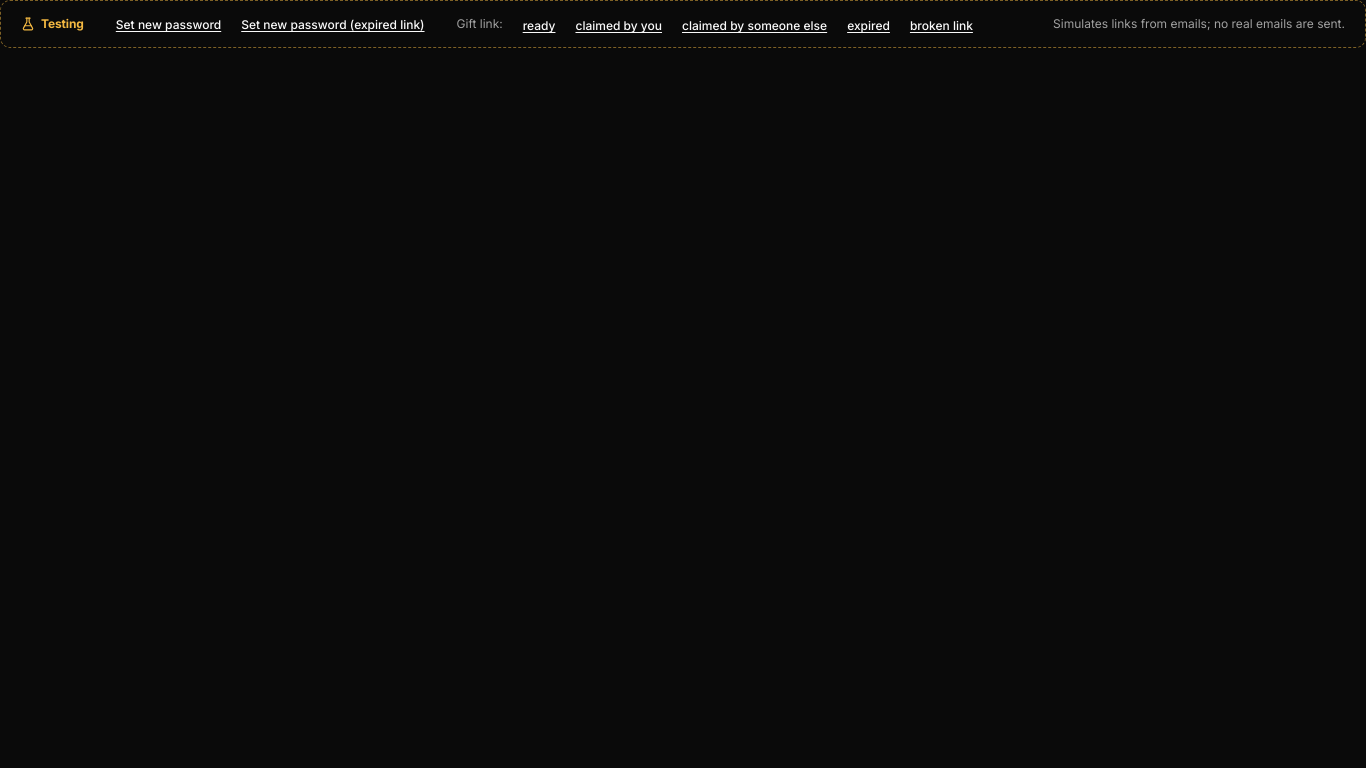
Scenario: password reset in the auth modal › focus returns to the footer link when the modal closes
Click the button "Set new password". click: click(168, 25)
box: [108,13,229,37]
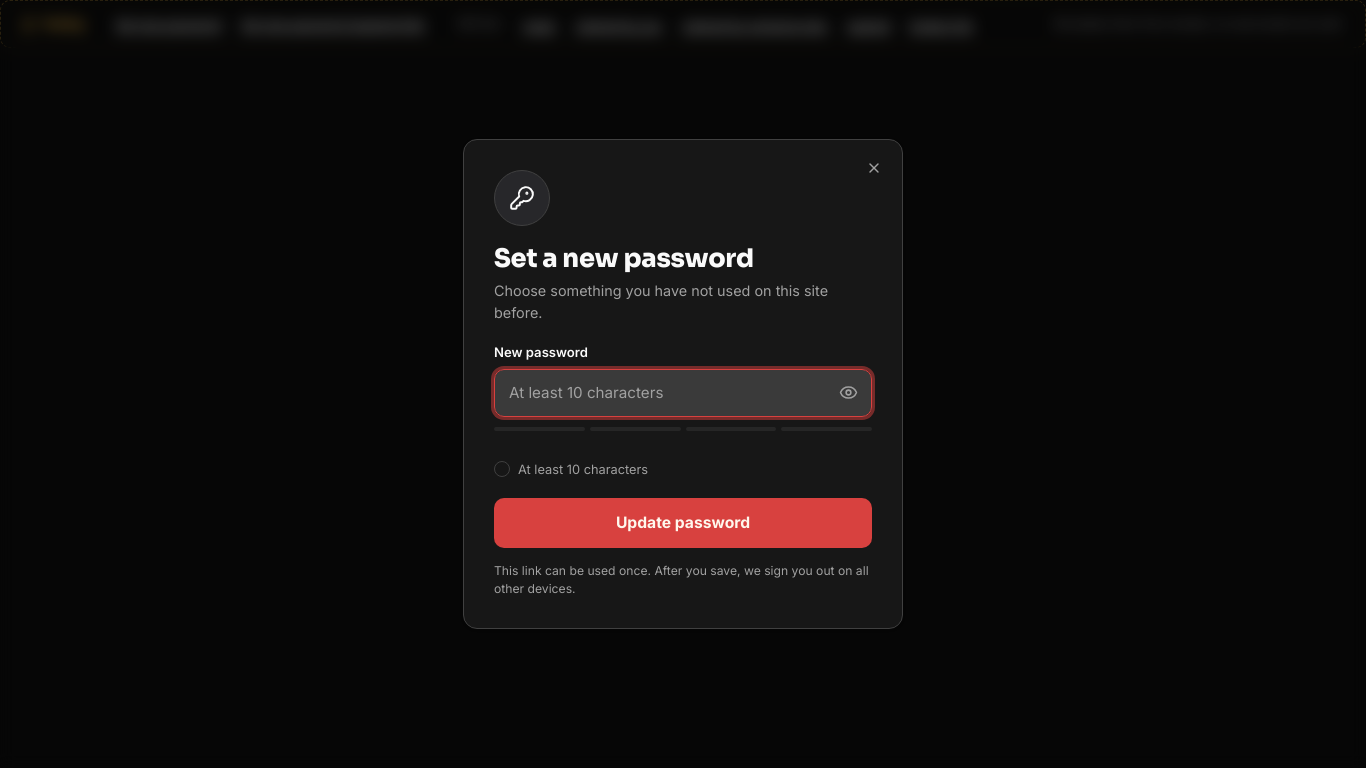
Press Escape
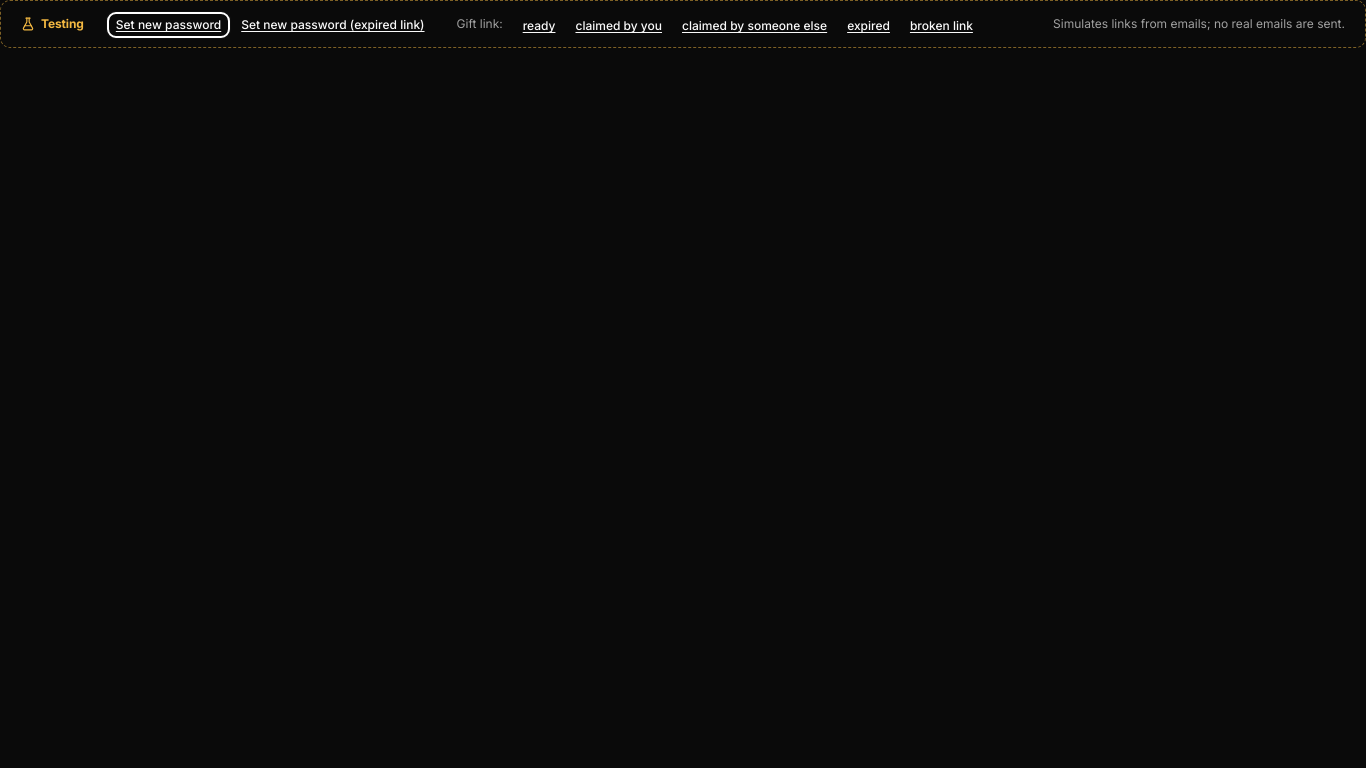
Result: the dialog is gone
